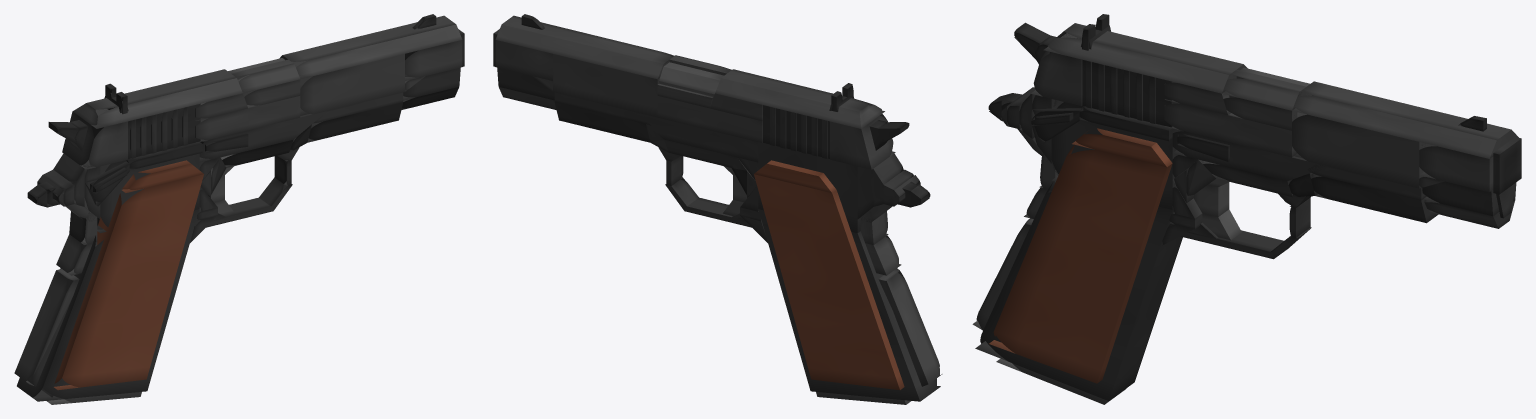
Rendered from colt.obj.
3 renders of one model, left to right at view 1: azimuth 30°, elevation 25°; view 2: azimuth 150°, elevation 25°; view 3: azimuth 330°, elevation 25°, orthographic. The views are drawn at different scales.
Parts seen in each view (by area): view 1: gunModel33, gunModel0, slideModel6, slideModel7, slideModel0, gunModel29, slideModel1, slideModel9, gunModel2, slideModel10, gunModel5, slideModel4 (+22 smaller); view 2: gunModel33, gunModel0, slideModel6, slideModel7, slideModel0, gunModel29, gunModel1, slideModel1, gunModel2, slideModel9, gunModel5, slideModel4 (+20 smaller); view 3: gunModel33, gunModel0, slideModel6, slideModel0, slideModel7, slideModel1, gunModel2, gunModel5, slideModel4, gunModel1, slideModel10, slideModel9 (+23 smaller).
Part boxes in pixels (<box>): gunModel33: <box>54,174,203,390</box>; gunModel0: <box>17,209,199,401</box>; slideModel6: <box>279,15,462,79</box>; slideModel7: <box>73,69,242,128</box>; slideModel0: <box>292,54,404,117</box>; gunModel29: <box>14,269,79,390</box>; slideModel1: <box>195,96,300,142</box>; slideModel9: <box>62,109,127,169</box>; gunModel2: <box>199,108,327,162</box>; slideModel10: <box>91,103,200,158</box>; gunModel5: <box>307,102,403,142</box>; slideModel4: <box>405,40,462,80</box>; gunModel33: <box>754,174,904,390</box>; gunModel0: <box>758,209,940,401</box>; slideModel6: <box>495,15,674,79</box>; slideModel7: <box>715,69,884,128</box>; slideModel0: <box>553,54,659,117</box>; gunModel29: <box>878,269,942,386</box>; gunModel1: <box>758,142,860,233</box>; slideModel1: <box>657,96,762,142</box>; gunModel2: <box>632,111,758,162</box>; slideModel9: <box>830,114,895,169</box>; gunModel5: <box>554,102,650,142</box>; slideModel4: <box>495,40,552,80</box>; gunModel33: <box>989,144,1172,383</box>; gunModel0: <box>975,182,1182,400</box>; slideModel6: <box>1292,81,1518,158</box>; slideModel0: <box>1292,95,1435,188</box>; slideModel7: <box>1043,23,1247,93</box>; slideModel1: <box>1164,103,1297,157</box>; gunModel2: <box>1172,131,1328,181</box>; gunModel5: <box>1311,174,1438,223</box>; slideModel4: <box>1419,143,1493,192</box>; gunModel1: <box>1051,100,1178,209</box>; slideModel10: <box>1077,38,1179,127</box>; slideModel9: <box>1031,33,1082,105</box>.
Size of the model in its own units: 8.3 by 5.56 by 1.05.
